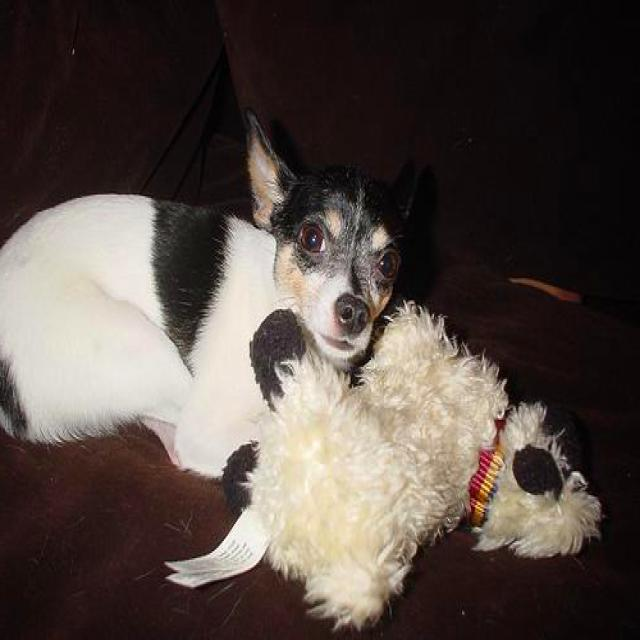toy_terrier: (1, 110, 422, 478)
